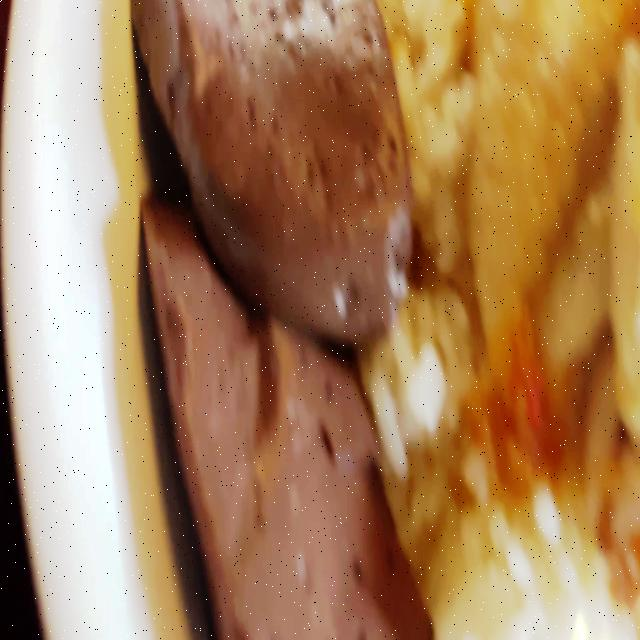boiled_chicken: (473, 4, 640, 524)
boiled_chicken_blood_jelly: (133, 180, 407, 640), (129, 0, 409, 331)
chicken_rice: (98, 0, 640, 640)
